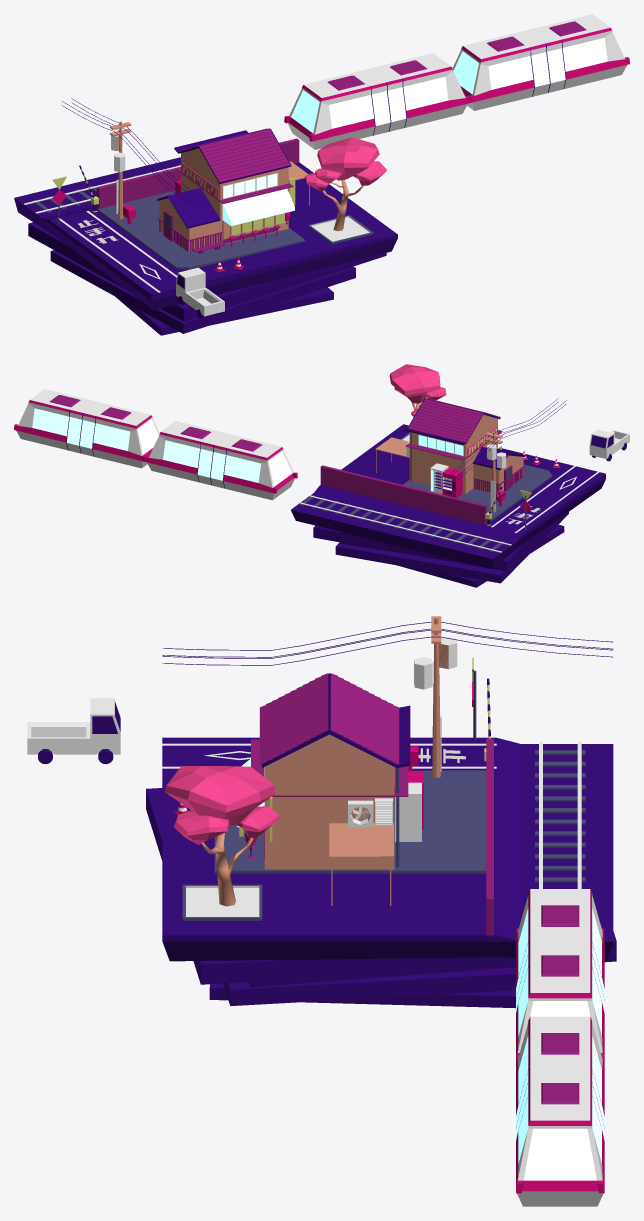
Rendered from paysage.glb.
3 renders of one model, top to bottom at view 1: azimuth 30°, elevation 25°; view 2: azimuth 150°, elevation 25°; view 3: azimuth 270°, elevation 25°, orthographic. The views are drawn at different scales.
Visible parts, largest first — view 1: wagon, road, CubeRoad (×3), house, trottoir.001, fleats, wall, car, earth, cable, roadstrip, three (+1 smaller); view 2: wagon, road, CubeRoad (×3), house, wall, trottoir.001, fleats, car, rails, machineBoisson2, cable, roadstrip (+1 smaller); view 3: road, wagon, CubeRoad (×4), house, trottoir.001, fleats, car, earth, cable, wall, machineBoisson1, rails (+4 smaller).
Part boxes in pixels (<box>): wagon: <box>284,14,629,149</box>; road: <box>14,157,397,310</box>; CubeRoad (×3): <box>28,222,386,335</box>; house: <box>157,128,309,252</box>; trottoir.001: <box>97,190,305,269</box>; fleats: <box>305,137,386,191</box>; wall: <box>96,138,299,209</box>; car: <box>176,267,224,316</box>; earth: <box>307,215,373,244</box>; cable: <box>61,98,208,209</box>; roadstrip: <box>57,211,177,292</box>; three: <box>322,180,363,231</box>; wagon: <box>14,389,297,500</box>; road: <box>291,424,605,569</box>; CubeRoad (×3): <box>313,512,568,587</box>; house: <box>375,398,525,493</box>; wall: <box>320,465,486,524</box>; trottoir.001: <box>403,464,552,523</box>; fleats: <box>389,364,446,416</box>; car: <box>589,429,629,458</box>; rails: <box>298,495,511,552</box>; machineBoisson2: <box>442,468,462,497</box>; cable: <box>446,398,566,482</box>; roadstrip: <box>491,466,599,532</box>; road: <box>162,737,613,961</box>; wagon: <box>516,889,604,1206</box>; CubeRoad (×4): <box>146,788,616,1008</box>; house: <box>237,673,410,905</box>; trottoir.001: <box>214,770,486,873</box>; fleats: <box>164,766,279,844</box>; car: <box>27,698,120,754</box>; earth: <box>182,884,262,920</box>; cable: <box>162,622,612,665</box>; wall: <box>486,738,493,936</box>; machineBoisson1: <box>395,782,421,841</box>; rails: <box>539,741,581,888</box>.
Size of the model in its own units: 40.95 by 10.75 by 21.55.
